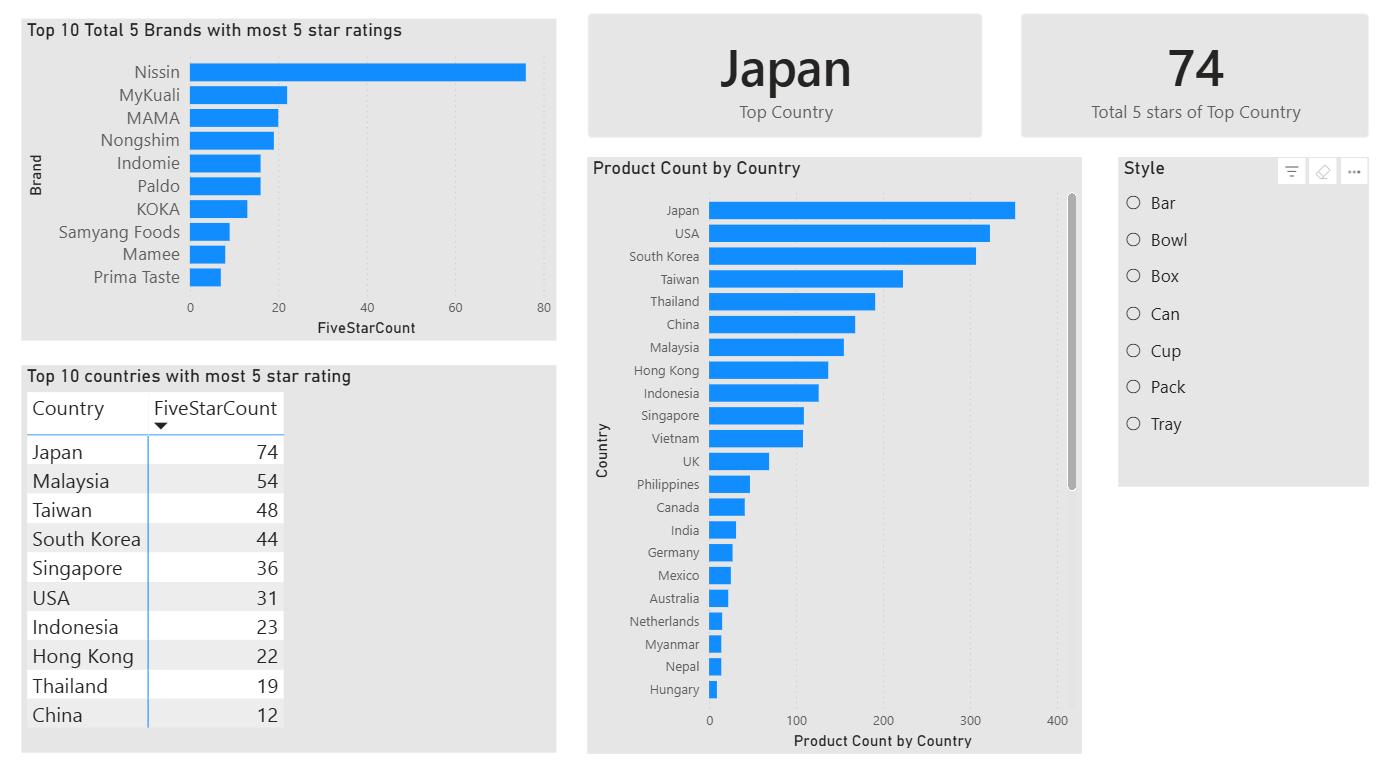

What the dashboard file says about the page in this screenshot:
{"tool":"powerbi","page":{"name":"Page 1","canvas":[1280,720],"ordinal":0},"visuals":[{"type":"barChart","title":"Top 10 Total 5 Brands with most 5 star ratings","fields":{"Category":["ramen_ratings_cleaned.Brand"],"Y":["ramen_ratings_cleaned.FiveStarCount"]},"box":[19.6,21.4,493,297.2],"z":0},{"type":"pivotTable","title":"Top 10 countries with most 5 star rating","fields":{"Rows":["ramen_ratings_cleaned.Country"],"Values":["ramen_ratings_cleaned.FiveStarCount"]},"box":[19.6,341.7,493,357.7],"z":1000},{"type":"cardVisual","fields":{"Data":["ramen_ratings_cleaned.TopCountryByFiveStars"]},"box":[525,0,398.7,149.5],"z":2000},{"type":"cardVisual","fields":{"Data":["ramen_ratings_cleaned.TopFigureByFiveStars"]},"box":[923.7,0,356,149.5],"z":3000},{"type":"listSlicer","fields":{"Values":["ramen_ratings_cleaned.Style"]},"box":[1030.5,149.5,231.4,304.3],"z":4000},{"type":"clusteredBarChart","title":"Product Count by Country","fields":{"Y":["ramen_ratings_cleaned.Product Count by Country"],"Category":["ramen_ratings_cleaned.Country"]},"box":[541.1,149.5,455.6,550],"z":4001}]}

Visuals, with their boxes in screenshot pixels (x1, y1, x2, y2), scaled from the page's 1280x720 canvas onto the 1392x772 screenshot:
"Top 10 Total 5 Brands with most 5 star ratings" barChart: region(21, 23, 557, 342)
"Top 10 countries with most 5 star rating" pivotTable: region(21, 366, 557, 750)
cardVisual - ramen_ratings_cleaned.TopCountryByFiveStars: region(571, 0, 1005, 160)
cardVisual - ramen_ratings_cleaned.TopFigureByFiveStars: region(1005, 0, 1391, 160)
listSlicer - ramen_ratings_cleaned.Style: region(1121, 160, 1372, 487)
"Product Count by Country" clusteredBarChart: region(588, 160, 1084, 750)
